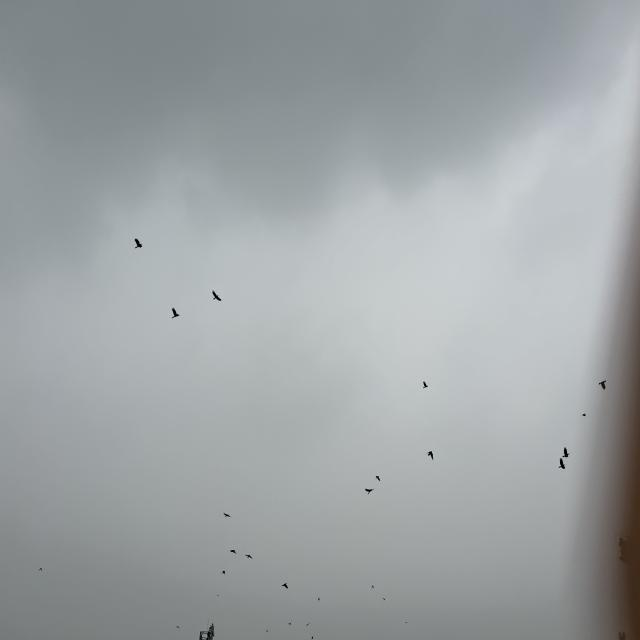bird: (131, 232, 152, 264), (594, 370, 610, 398), (167, 300, 183, 326), (276, 576, 292, 596), (207, 289, 224, 307), (422, 376, 434, 398), (562, 444, 572, 462), (425, 448, 436, 462), (557, 461, 568, 474), (364, 486, 374, 496)
